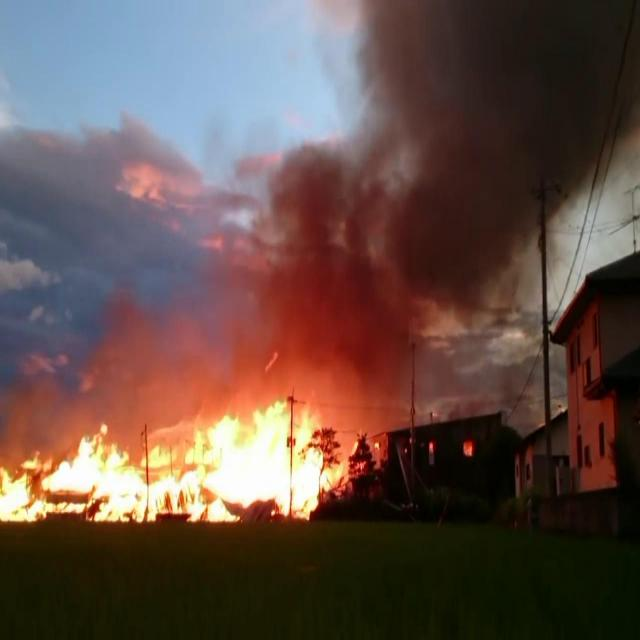fire: (4, 400, 339, 528)
